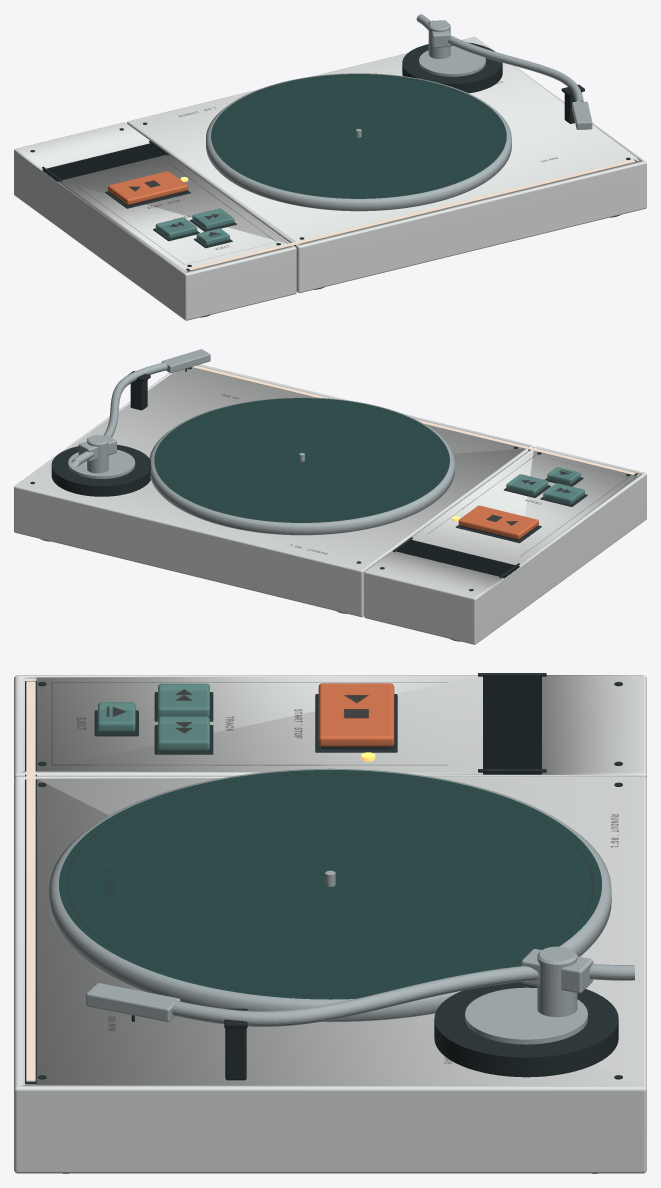
Rendered from turntable.glb.
The picture shows the model from 3 angles, top to bottom: view 1: azimuth 30°, elevation 25°; view 2: azimuth 150°, elevation 25°; view 3: azimuth 270°, elevation 25°; orthographic projection. The views are drawn at different scales.
Visible parts, largest first — view 1: Chassis_Main, Turntable_Platter, Tonearm_Base, Tonearm_Arm, Screen_Glass, Key_StartStop, LED_Strip, Chassis_Trim, Key_Prev, Key_Next; view 2: Chassis_Main, Turntable_Platter, Tonearm_Base, Tonearm_Arm, Screen_Glass, Key_StartStop, LED_Strip, Chassis_Trim, Key_Next, Key_Prev; view 3: Chassis_Main, Turntable_Platter, Tonearm_Base, Tonearm_Arm, Screen_Glass, Key_StartStop, Chassis_Trim, LED_Strip, Key_Next, Key_Prev, Prints, Key_Eject.
Boxes of the visible parts, bbox=[...] form: Chassis_Main: bbox=[14, 36, 646, 320]; Turntable_Platter: bbox=[206, 73, 511, 211]; Tonearm_Base: bbox=[402, 34, 584, 123]; Tonearm_Arm: bbox=[416, 14, 592, 129]; Screen_Glass: bbox=[42, 143, 165, 181]; Key_StartStop: bbox=[107, 171, 188, 205]; LED_Strip: bbox=[188, 159, 635, 270]; Chassis_Trim: bbox=[30, 43, 636, 270]; Key_Prev: bbox=[155, 217, 197, 238]; Key_Next: bbox=[192, 208, 234, 229]; Chassis_Main: bbox=[14, 364, 646, 644]; Turntable_Platter: bbox=[149, 397, 454, 535]; Tonearm_Base: bbox=[51, 371, 151, 496]; Tonearm_Arm: bbox=[71, 349, 210, 467]; Screen_Glass: bbox=[396, 540, 519, 578]; Key_StartStop: bbox=[458, 505, 538, 540]; LED_Strip: bbox=[191, 365, 635, 475]; Chassis_Trim: bbox=[30, 367, 637, 591]; Key_Next: bbox=[506, 474, 548, 495]; Key_Prev: bbox=[543, 483, 584, 504]; Chassis_Main: bbox=[14, 675, 646, 1173]; Turntable_Platter: bbox=[49, 768, 611, 1022]; Tonearm_Base: bbox=[224, 976, 618, 1080]; Tonearm_Arm: bbox=[86, 946, 634, 1026]; Screen_Glass: bbox=[483, 676, 541, 774]; Key_StartStop: bbox=[318, 683, 394, 748]; Chassis_Trim: bbox=[25, 673, 622, 1084]; LED_Strip: bbox=[26, 681, 35, 1081]; Key_Next: bbox=[158, 716, 209, 750]; Key_Prev: bbox=[158, 683, 209, 716]; Prints: bbox=[51, 682, 618, 1063]; Key_Eject: bbox=[98, 702, 135, 732].
Size of what is drawn, in the model's own units: 4.15 by 0.843 by 2.68.
13 materials, 3 textured.
